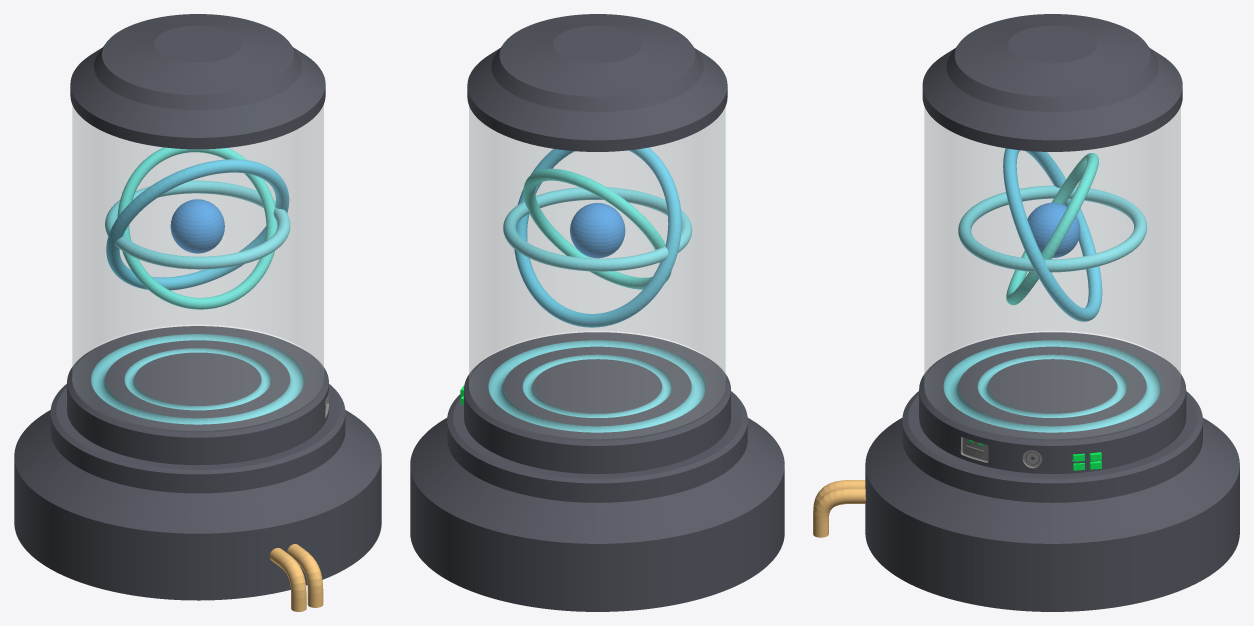
The model's file is react.gltf.
3 views of the same model, side by side, from view 1: azimuth 30°, elevation 25°; view 2: azimuth 150°, elevation 25°; view 3: azimuth 270°, elevation 25° (orthographic).
Visible parts, largest first — view 1: Cylinder.010, Cylinder.003, Cylinder.001, Cylinder.004, Cylinder.002, Torus.001, Torus.002, Torus.008, Sphere, Cylinder.011, Cylinder.012; view 2: Cylinder.010, Cylinder.003, Cylinder.001, Cylinder.004, Cylinder.002, Torus.001, Torus.008, Torus.002, Sphere; view 3: Cylinder.010, Cylinder.003, Cylinder.001, Cylinder.004, Cylinder.002, Torus.008, Torus.001, Torus.002, Sphere, Cylinder.012.
Part boxes in pixels (x1,y1,x2,y2): Cylinder.010: [72, 105, 323, 430]; Cylinder.003: [14, 410, 381, 600]; Cylinder.001: [67, 326, 328, 465]; Cylinder.004: [70, 14, 325, 149]; Cylinder.002: [50, 384, 345, 493]; Torus.001: [106, 159, 289, 290]; Torus.002: [117, 147, 277, 309]; Torus.008: [105, 180, 290, 269]; Sphere: [170, 199, 224, 253]; Cylinder.011: [269, 548, 306, 611]; Cylinder.012: [287, 544, 323, 607]; Cylinder.010: [469, 106, 725, 438]; Cylinder.003: [410, 418, 784, 611]; Cylinder.001: [464, 332, 730, 473]; Cylinder.004: [467, 14, 727, 151]; Cylinder.002: [447, 391, 747, 502]; Torus.001: [514, 147, 681, 327]; Torus.008: [503, 187, 692, 271]; Torus.002: [523, 168, 671, 289]; Sphere: [570, 203, 625, 258]; Cylinder.010: [924, 107, 1180, 438]; Cylinder.003: [865, 418, 1239, 611]; Cylinder.001: [919, 332, 1186, 473]; Cylinder.004: [922, 14, 1182, 151]; Cylinder.002: [902, 391, 1202, 502]; Torus.008: [958, 185, 1147, 272]; Torus.001: [1003, 148, 1102, 321]; Torus.002: [1006, 153, 1098, 305]; Sphere: [1027, 202, 1080, 257]; Cylinder.012: [813, 488, 865, 537].
Size of the model in its own units: 7.07 by 10.17 by 8.06.
